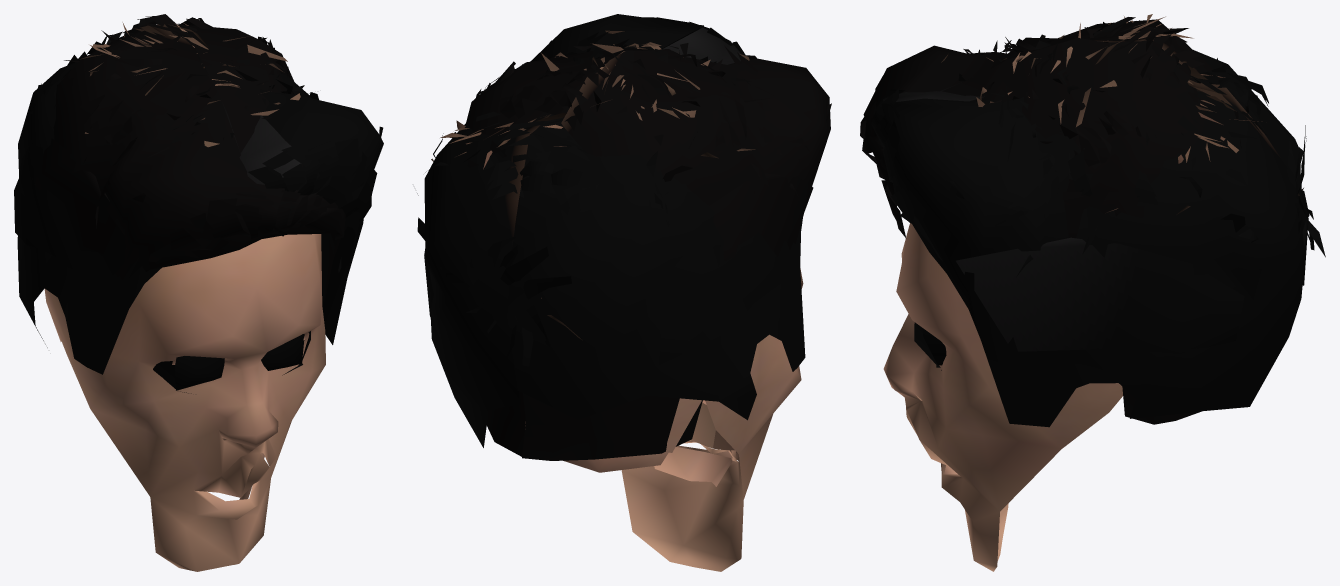
File: grey_leno_head.glb
3 views of the same model, side by side, from view 1: azimuth 30°, elevation 25°; view 2: azimuth 150°, elevation 25°; view 3: azimuth 270°, elevation 25° (orthographic). The views are drawn at different scales.
Parts seen in each view (by area): view 1: GreyLenoHead; view 2: GreyLenoHead; view 3: GreyLenoHead.
Boxes of the visible parts, left/top/right/bottom form: GreyLenoHead: left=14, top=14, right=383, bottom=571; GreyLenoHead: left=417, top=14, right=831, bottom=571; GreyLenoHead: left=860, top=14, right=1325, bottom=571.
Size of the model in its own units: 0.2197 by 0.3748 by 0.2933.
Materials: 1 (1 with a texture image).
